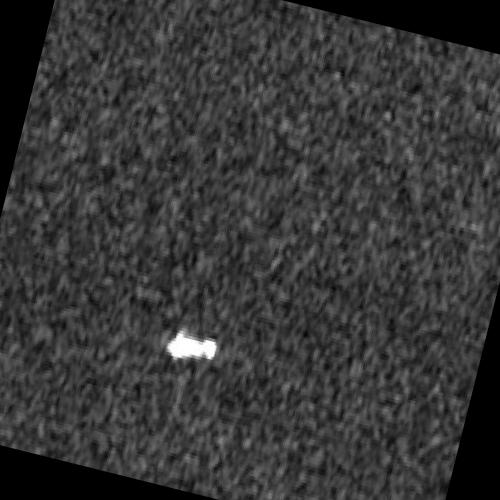ship: (166, 329, 219, 361)
